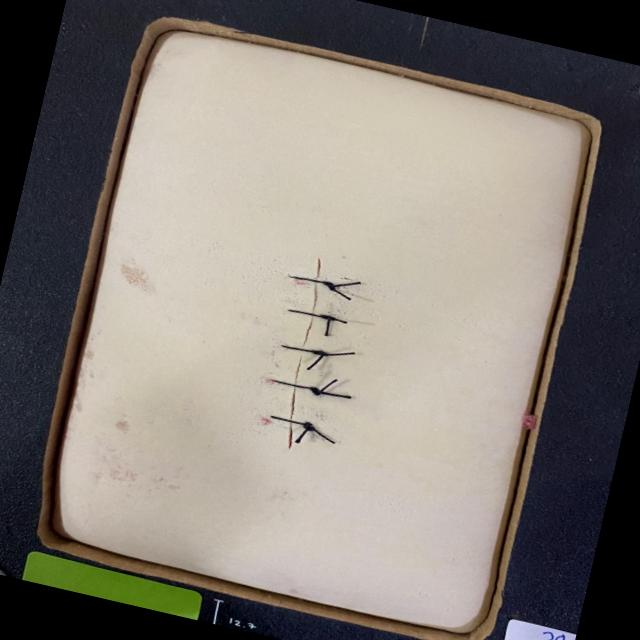knot: (320, 279, 337, 292), (308, 348, 330, 358), (300, 420, 316, 433), (316, 313, 338, 322), (306, 385, 322, 397)
leftover: (309, 426, 334, 443), (305, 352, 325, 369), (315, 378, 337, 393), (315, 390, 350, 398), (330, 287, 351, 300), (295, 426, 311, 442), (329, 281, 360, 287), (322, 351, 355, 356), (324, 317, 330, 335), (331, 317, 346, 323)
stitch: (287, 309, 335, 320), (274, 380, 318, 391), (289, 275, 333, 286), (268, 415, 311, 426), (280, 344, 325, 354)
wound: (285, 256, 322, 451)
